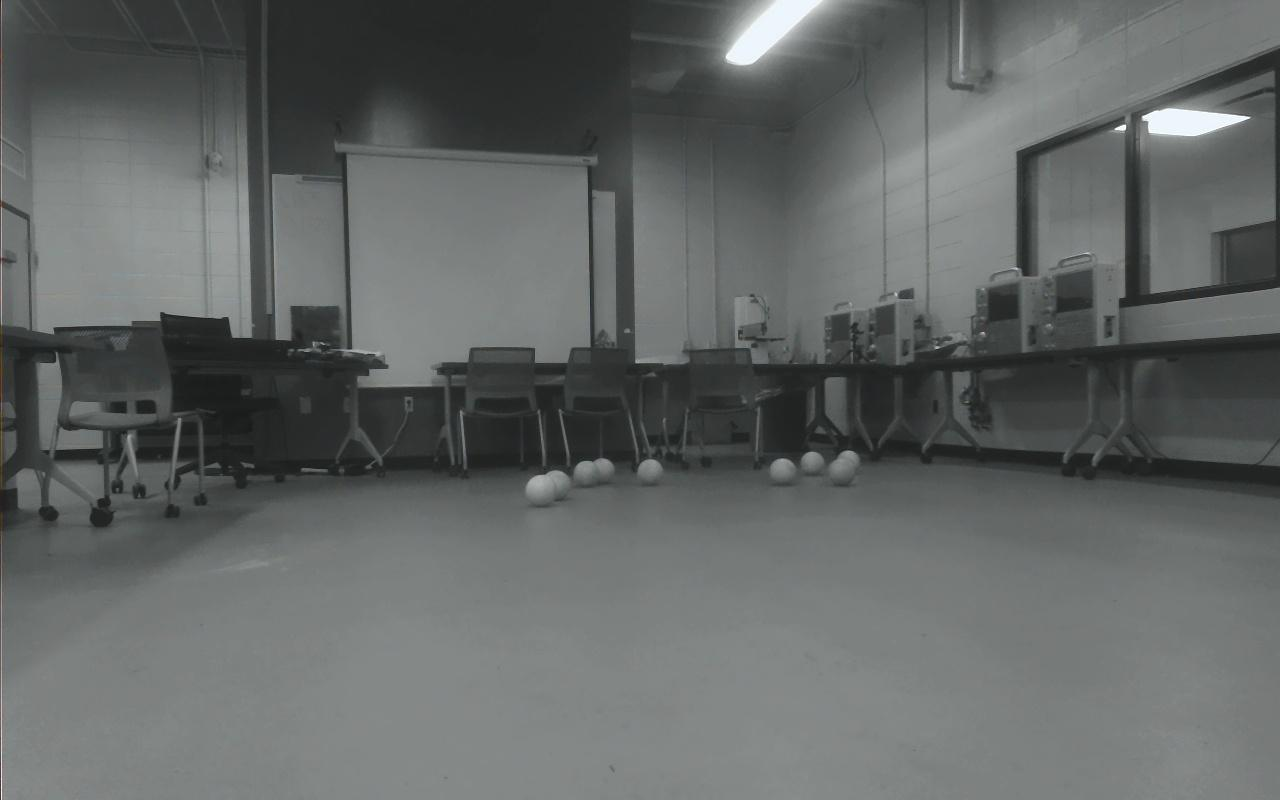Fuel: (525, 474, 556, 507), (543, 469, 571, 501), (636, 458, 664, 486), (769, 457, 797, 485), (573, 460, 600, 488), (829, 458, 856, 486), (590, 457, 614, 485), (801, 451, 826, 476), (836, 450, 861, 474)
